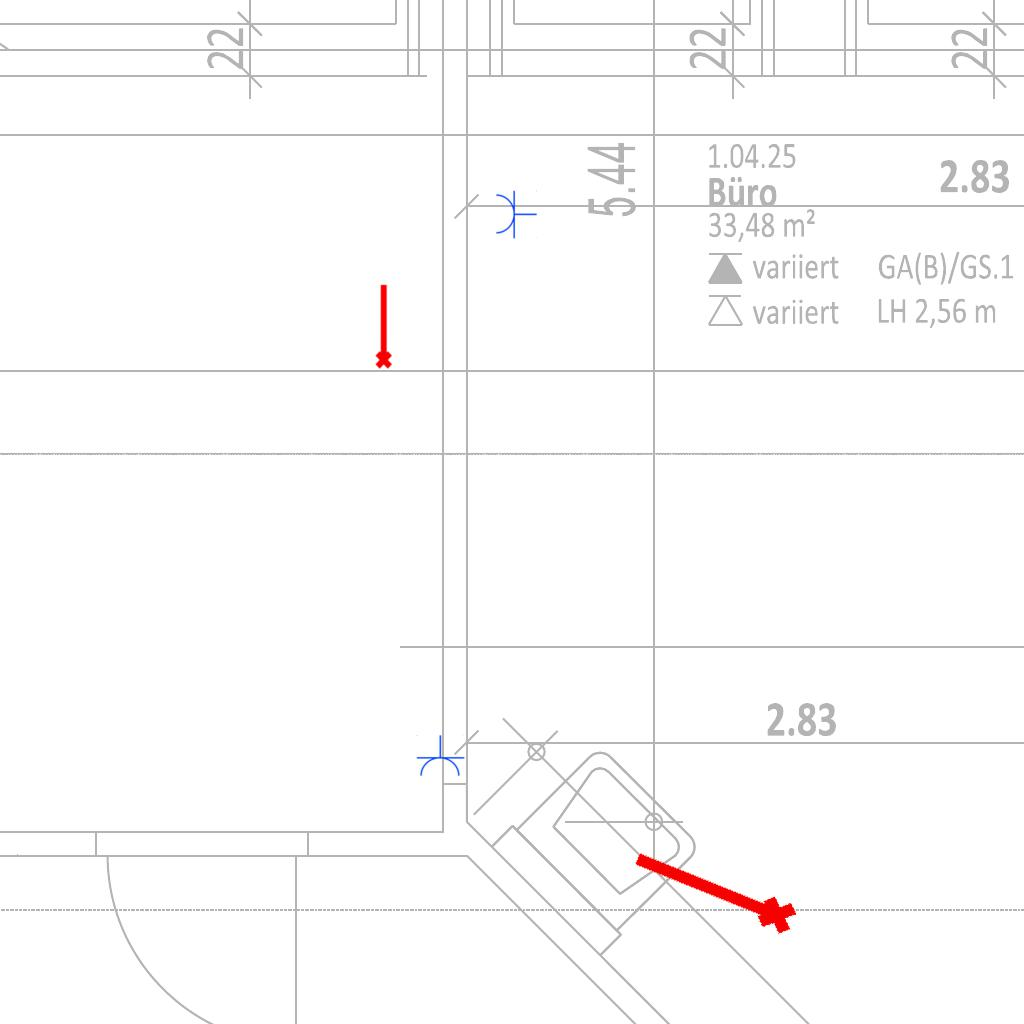ASR_Ansaugoeffnung: (622, 837, 804, 947), (371, 282, 394, 370)
Schukosteckdose_einfach: (415, 735, 465, 778), (494, 189, 537, 239)
